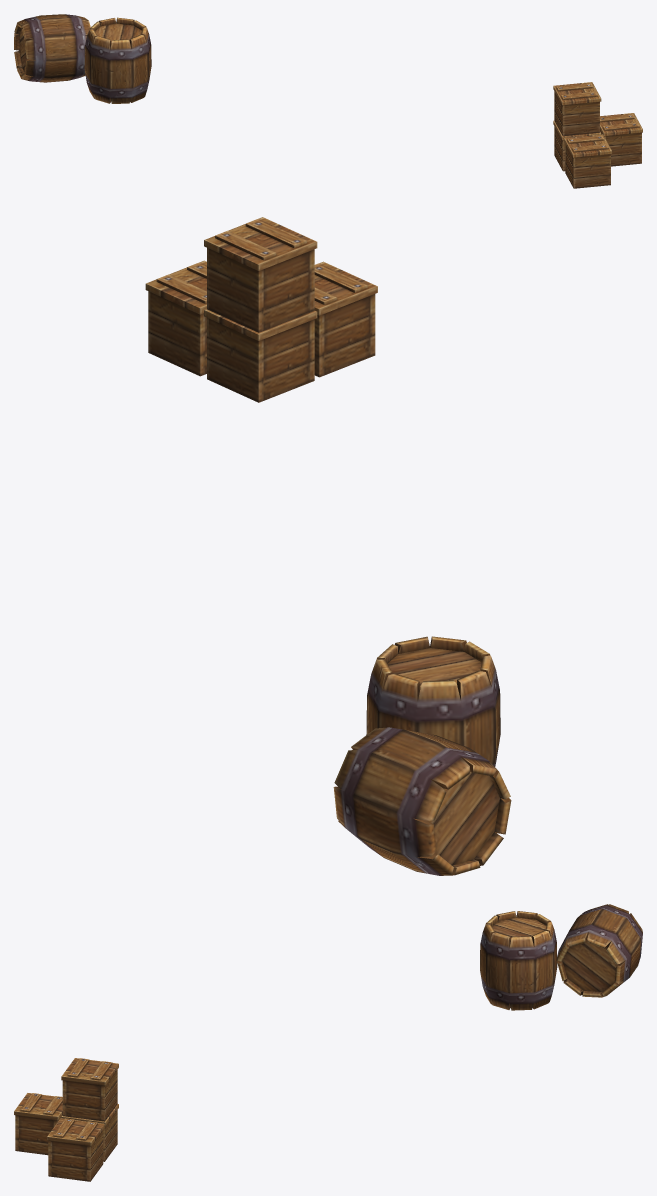
The model's file is Area_13_32.fbx.
The picture shows the model from 3 angles, top to bottom: view 1: azimuth 30°, elevation 25°; view 2: azimuth 150°, elevation 25°; view 3: azimuth 270°, elevation 25°; orthographic projection. The views are drawn at different scales.
Visible parts, largest first — view 1: Area_13_32; view 2: Area_13_32; view 3: Area_13_32.
Boxes of the visible parts, x1=… form: Area_13_32: x1=14, y1=14, x2=642, y2=188; Area_13_32: x1=145, y1=217, x2=511, y2=875; Area_13_32: x1=14, y1=904, x2=642, y2=1181.
Size of the model in its own units: 828 by 152 by 991.
